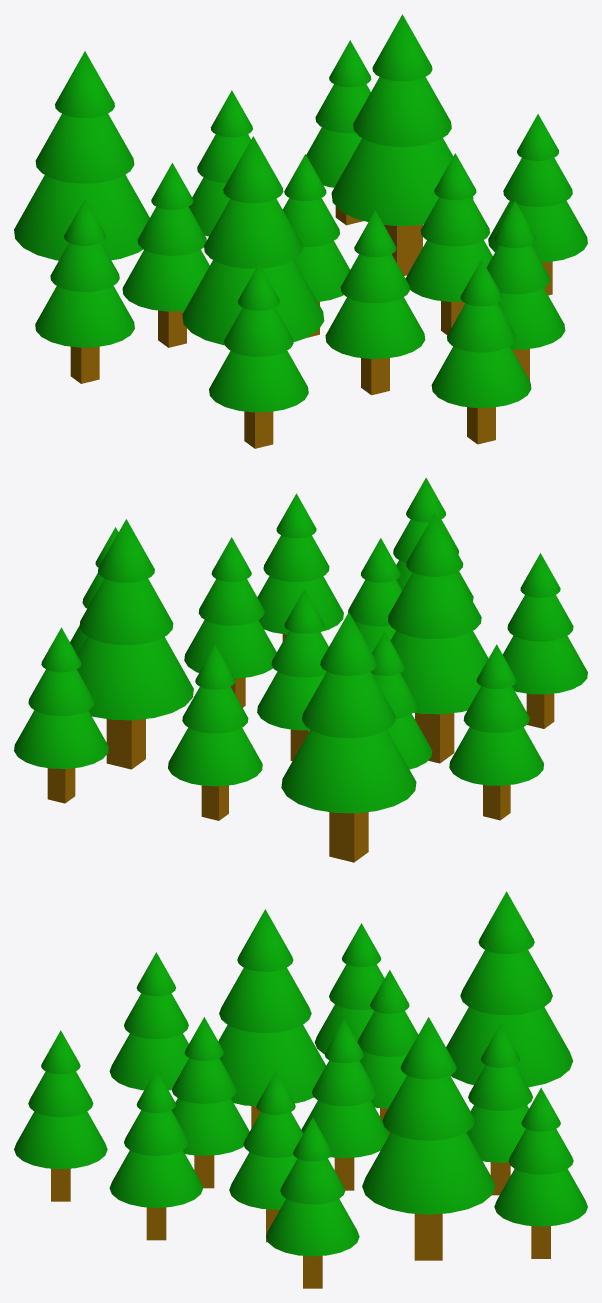
The model's file is Bundle Spruce Tree.fbx.
3 views of the same model, one above another, from view 1: azimuth 30°, elevation 25°; view 2: azimuth 150°, elevation 25°; view 3: azimuth 270°, elevation 25° (orthographic). The views are drawn at different scales.
Parts seen in each view (by area): view 1: polySurface24; view 2: polySurface24; view 3: polySurface24.
Part boxes in pixels (left/top/right/bottom): polySurface24: left=14, top=14, right=587, bottom=448; polySurface24: left=14, top=477, right=587, bottom=862; polySurface24: left=14, top=891, right=587, bottom=1288.
Bounding box in the file's own units: 27.96 × 13.26 × 28.99.
